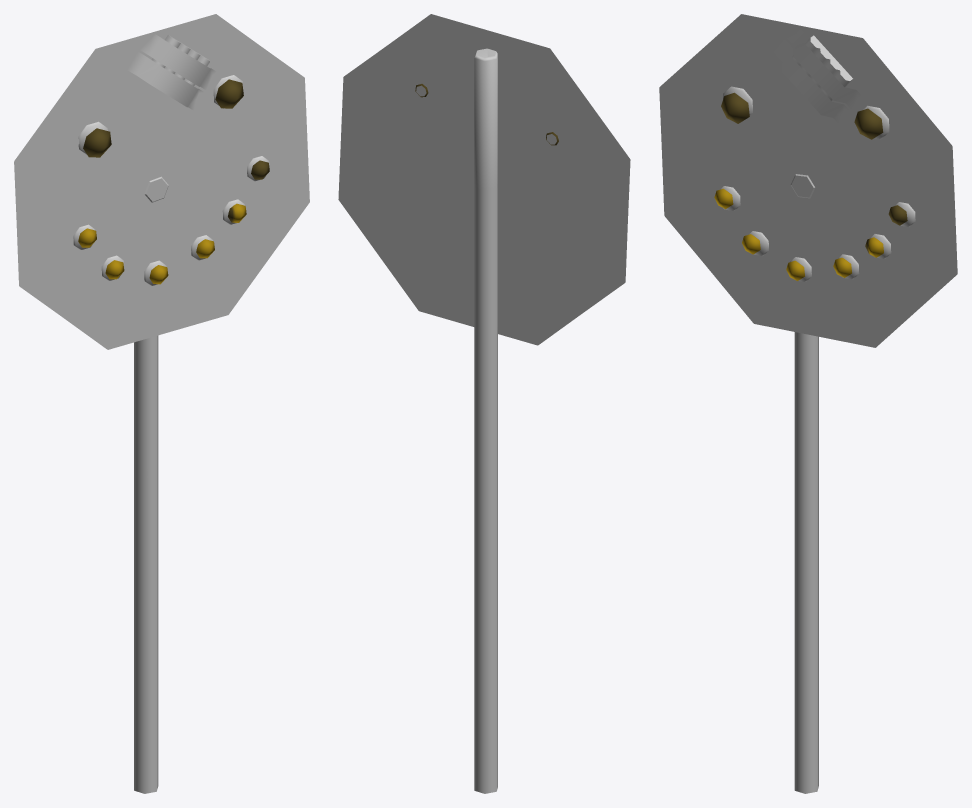
File: Sign Stop Smiley Post.FBX
3 views of the same model, side by side, from view 1: azimuth 30°, elevation 25°; view 2: azimuth 150°, elevation 25°; view 3: azimuth 330°, elevation 25° (orthographic). The views are drawn at different scales.
Parts seen in each view (by area): view 1: Sign Stop Post, Smiley Bulbs; view 2: Sign Stop Post; view 3: Sign Stop Post, Smiley Bulbs.
Part boxes in pixels (x1,y1,x2,y2): Sign Stop Post: [14, 14, 309, 793]; Smiley Bulbs: [78, 79, 269, 284]; Sign Stop Post: [338, 14, 630, 793]; Sign Stop Post: [659, 14, 957, 793]; Smiley Bulbs: [714, 92, 907, 280].
Bounding box in the file's own units: 34.37 × 84.83 × 4.73.
